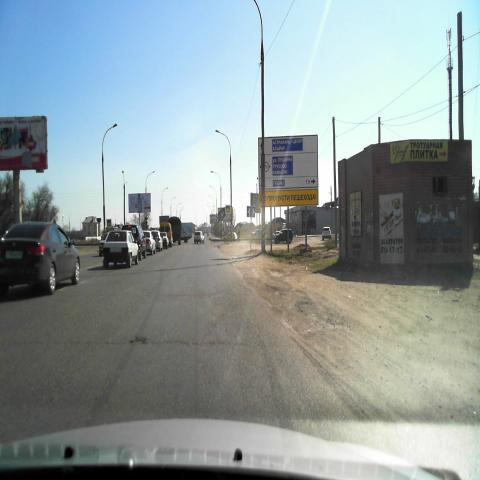5_15_2_2: (246, 206, 256, 218)
